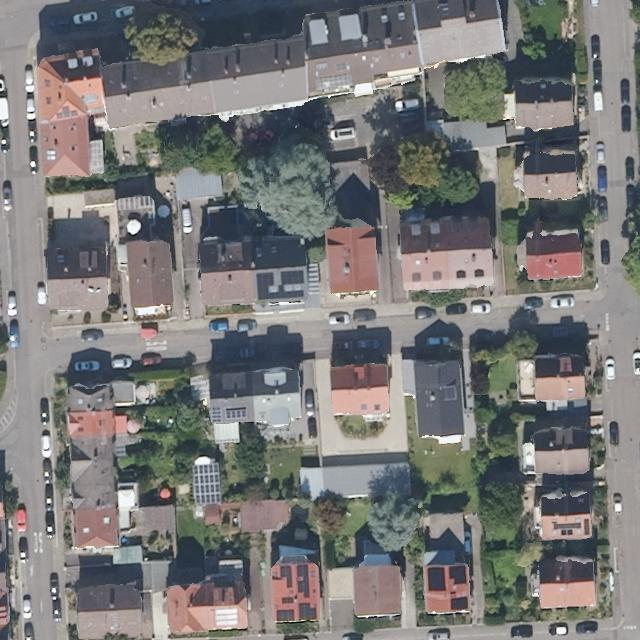PV: (253, 269, 307, 302), (191, 463, 221, 505), (48, 100, 86, 119), (426, 565, 447, 593), (295, 562, 311, 598), (214, 607, 239, 628), (448, 563, 468, 587), (298, 602, 318, 623), (278, 563, 294, 589), (450, 594, 472, 612), (275, 607, 296, 623), (224, 406, 249, 419), (211, 406, 220, 426)
